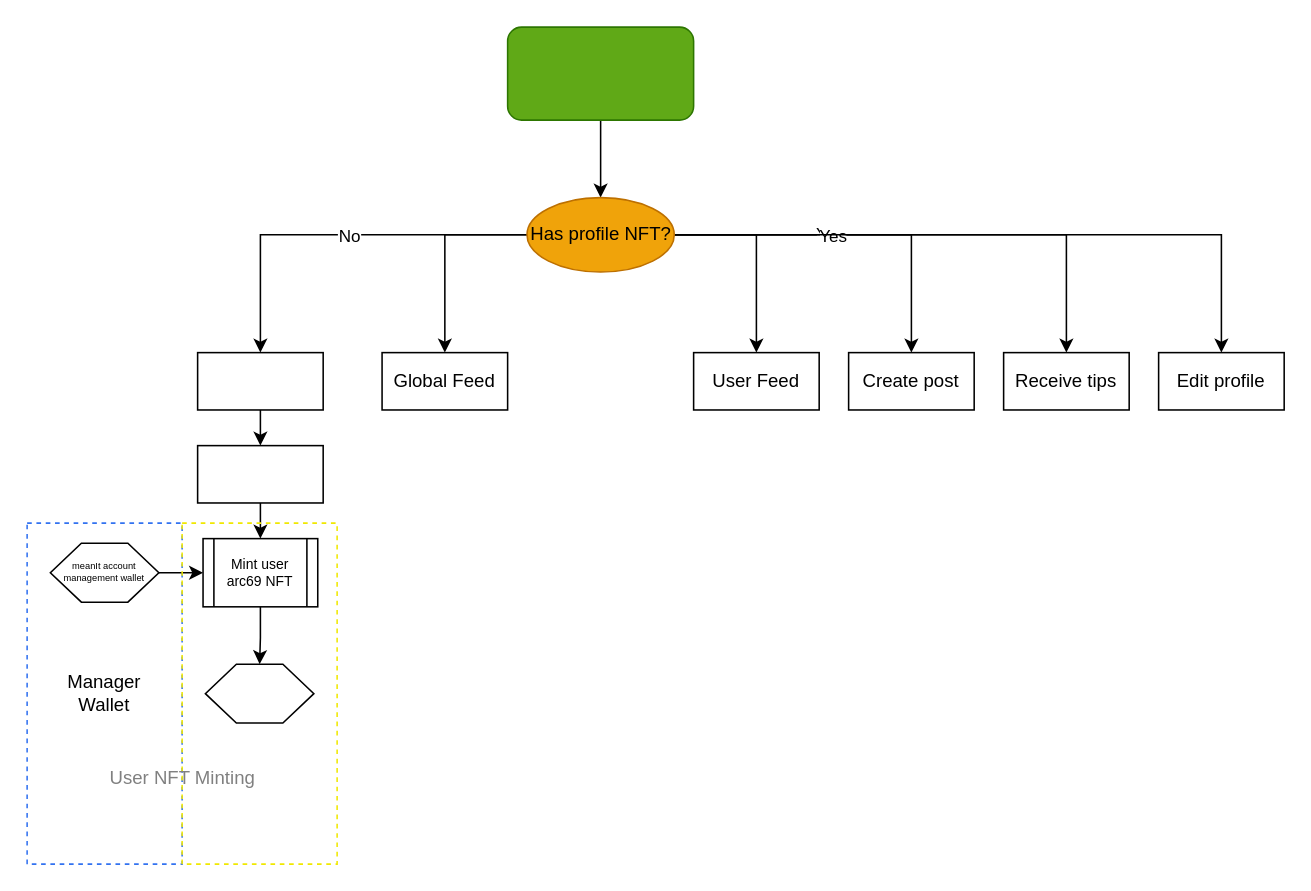
The diagram is 1311 pixels wide and 891 high, and some of its shapes have lost their labels. Each missing label, with the centre of its shape:
Create Profile: point (259, 380)
form: {userHandle: string, userImage: string}: point (259, 473)
User connects: point (600, 73)
userWallet: point (259, 693)
